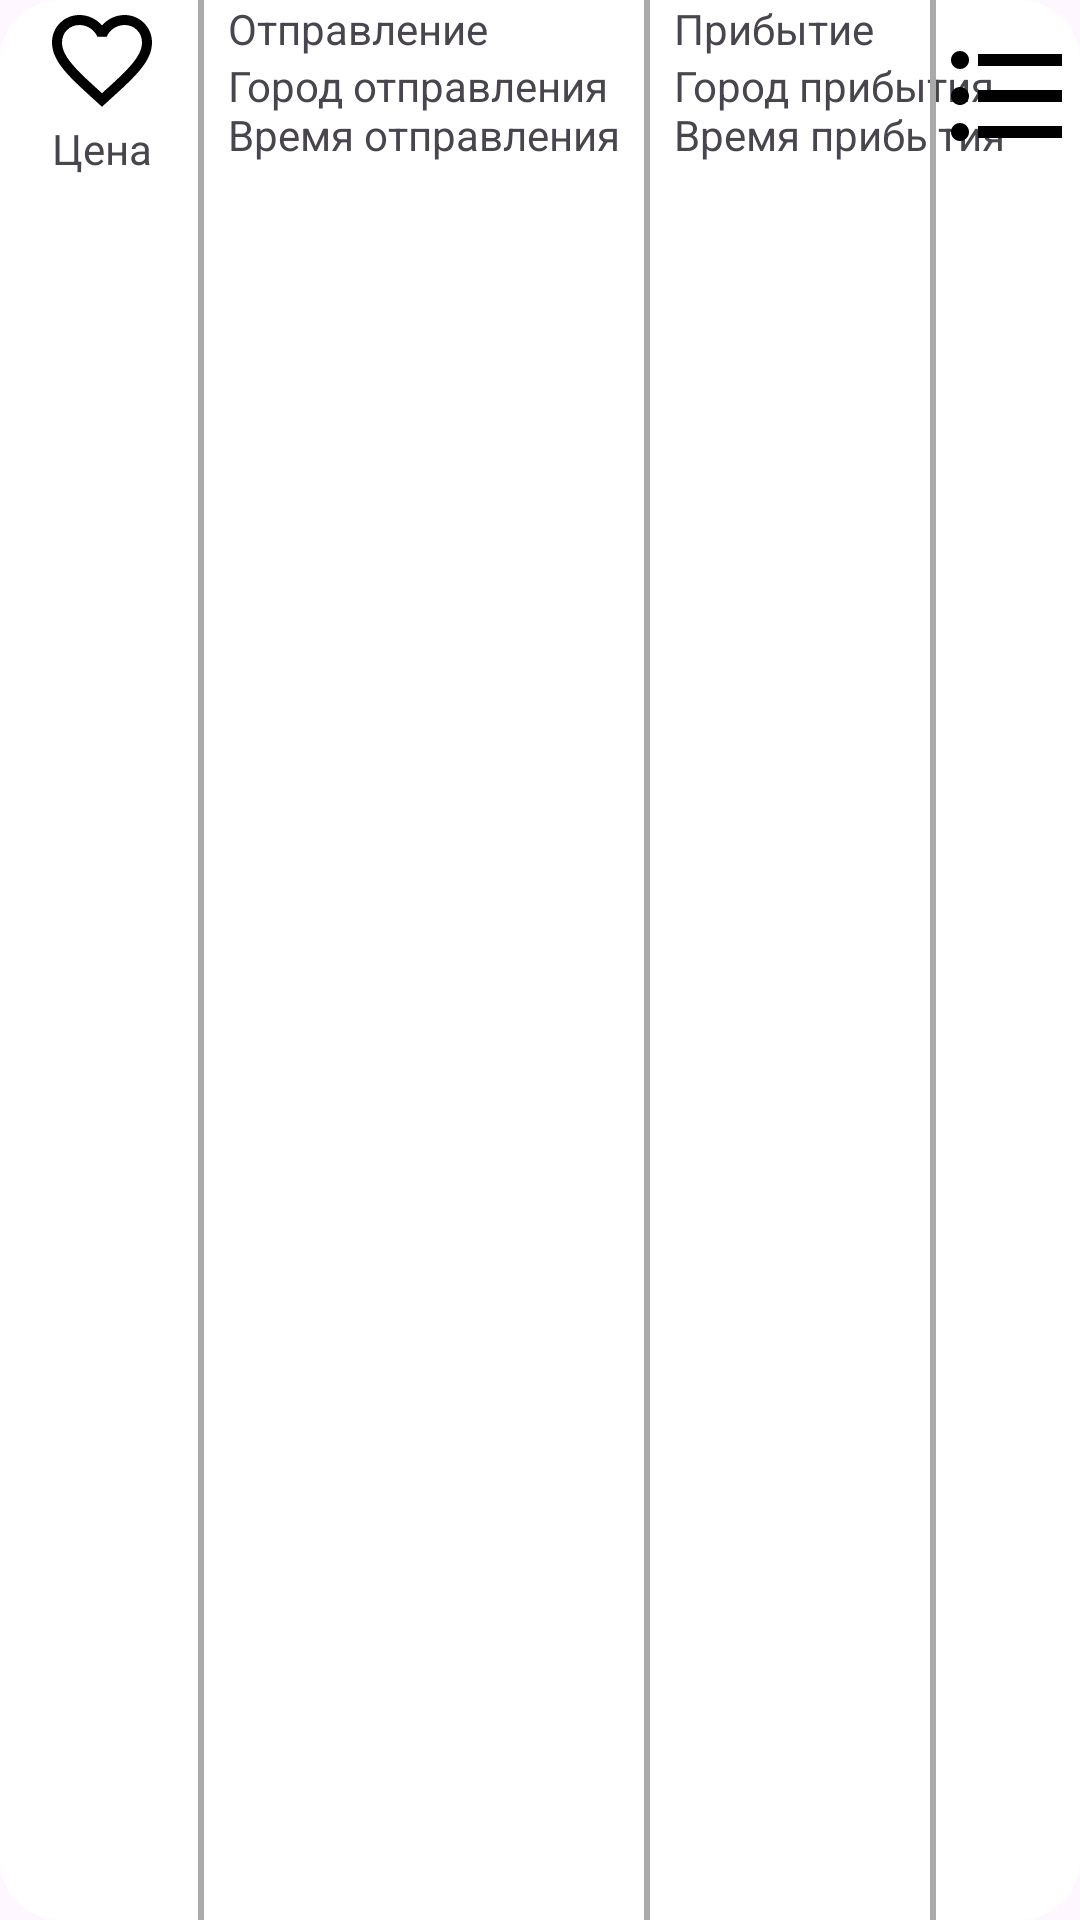

Screen size 1080w x 1920h. Icon name, then its center in pixels as point (x, y):
Детали перелёта: point (1000, 101)
Этот перелёт в избранных: point (102, 61)
